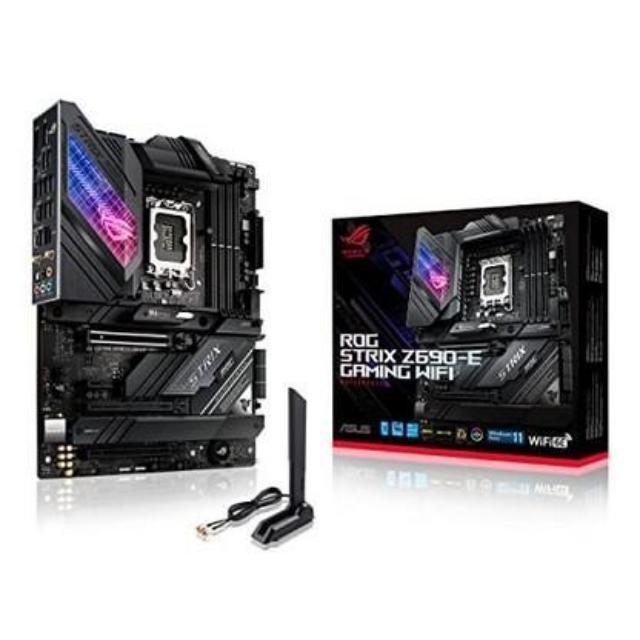Mainboard: (25, 104, 272, 482)
